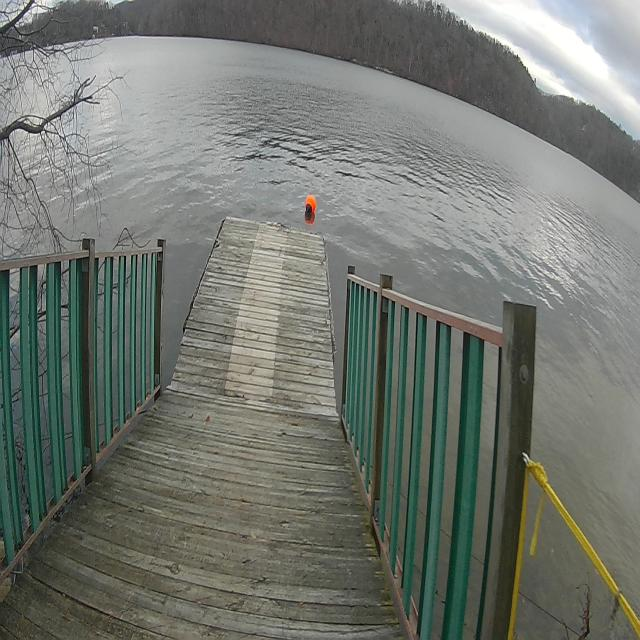Buoy: (302, 191, 320, 218)
